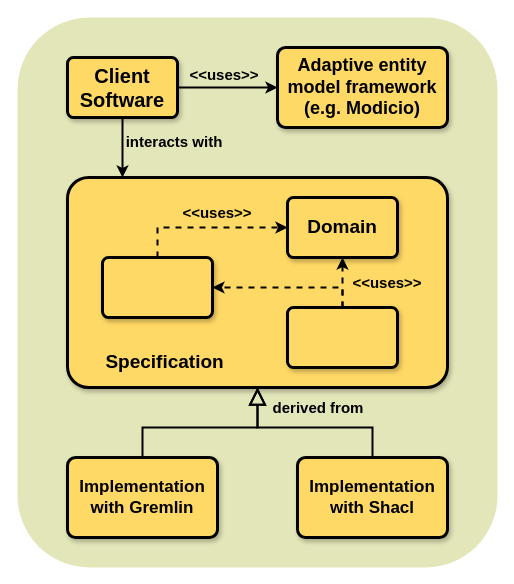
Some shapes in this 514 by 584 pixel diagram are drawn without their labels. Each missing label, with the centre of its shape:
"Mappers" belongs at pixel 158 289.
"Services" belongs at pixel 343 339.
